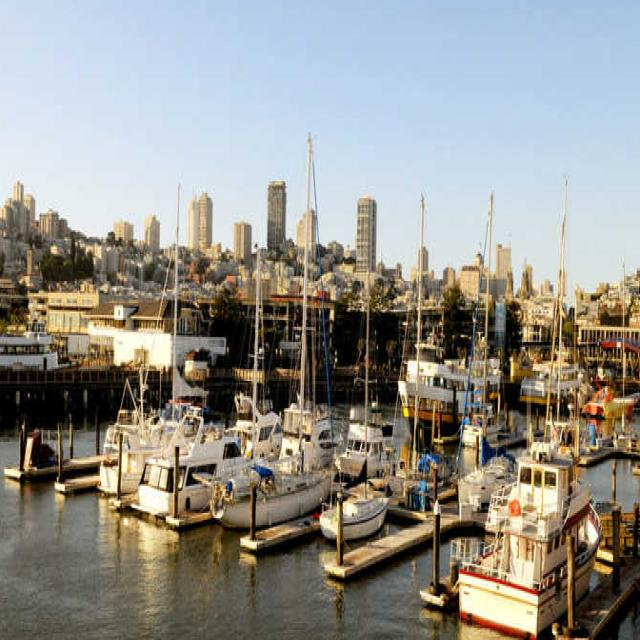cargoship: (446, 422, 600, 632)
